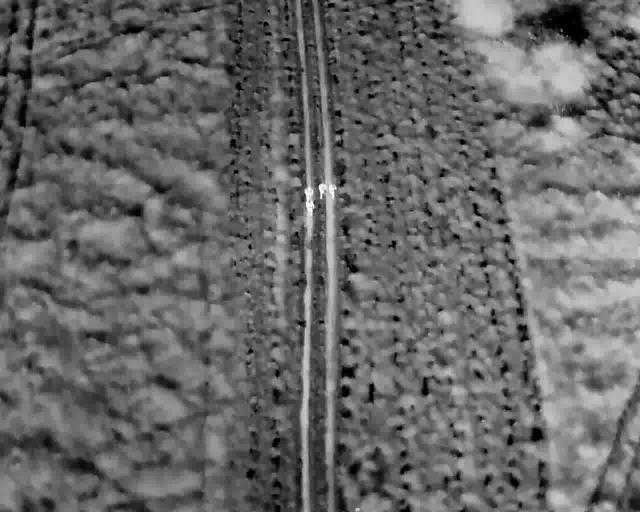person: (303, 183, 316, 203), (327, 180, 338, 201), (318, 179, 328, 201), (305, 198, 315, 218)
